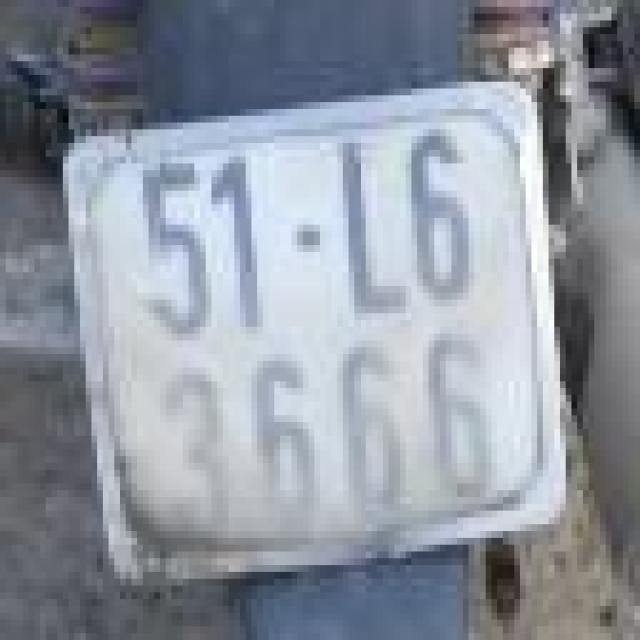1: (208, 136, 266, 334)
3: (149, 347, 240, 545)
5: (134, 153, 214, 344)
6: (326, 330, 423, 528), (414, 324, 500, 501), (406, 112, 480, 317), (240, 350, 320, 528)
L: (326, 130, 406, 314)
